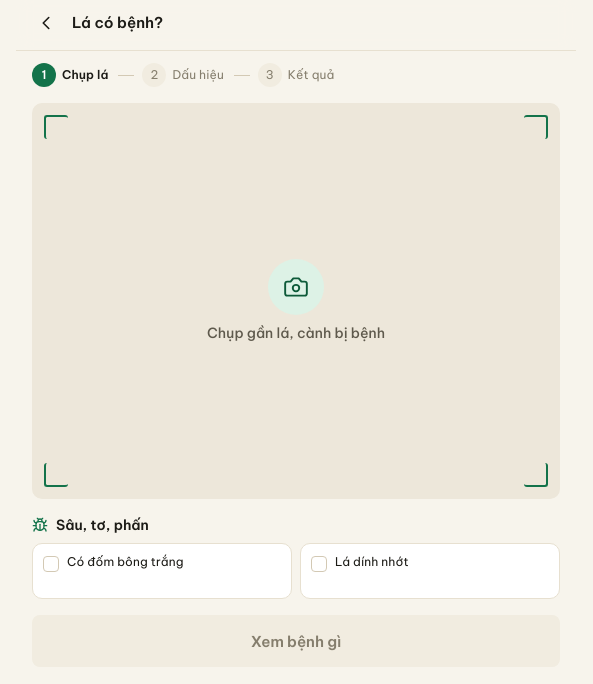
Trợ lý chăm cây › checks leaf health from symptoms
The width and height of the screenshot is (593, 684).
Expected: the button "Xem bệnh gì" is disabled, [32,615,560,667]
Click the button "Có đốm bông trắng".
click(162, 571)  # box [32,543,292,599]
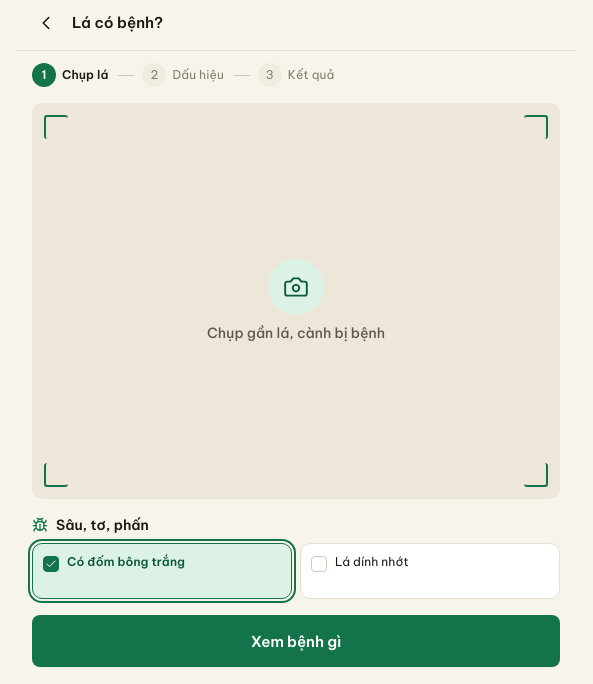
Click the button "Xem bệnh gì".
click(296, 641)  # box [32,615,560,667]
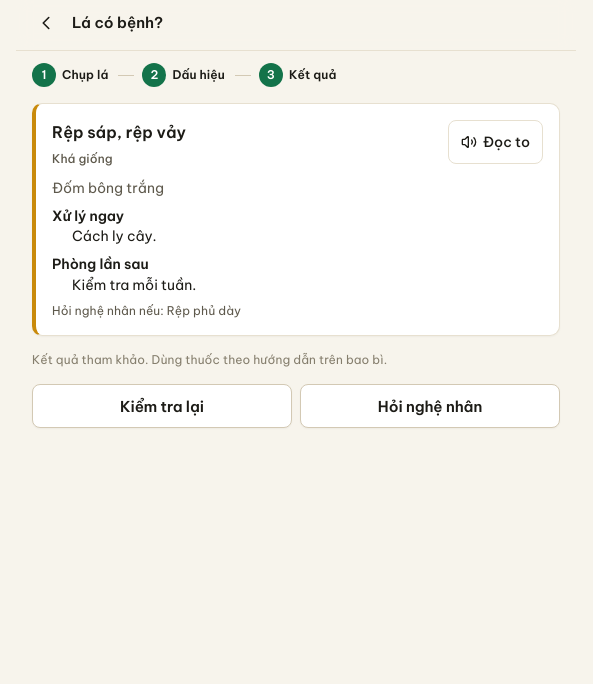
Expected: the heading "Rệp sáp, rệp vảy" is shown, [52,120,186,145]
Expected: the list item "Cách ly cây." is shown, [72,227,157,245]
